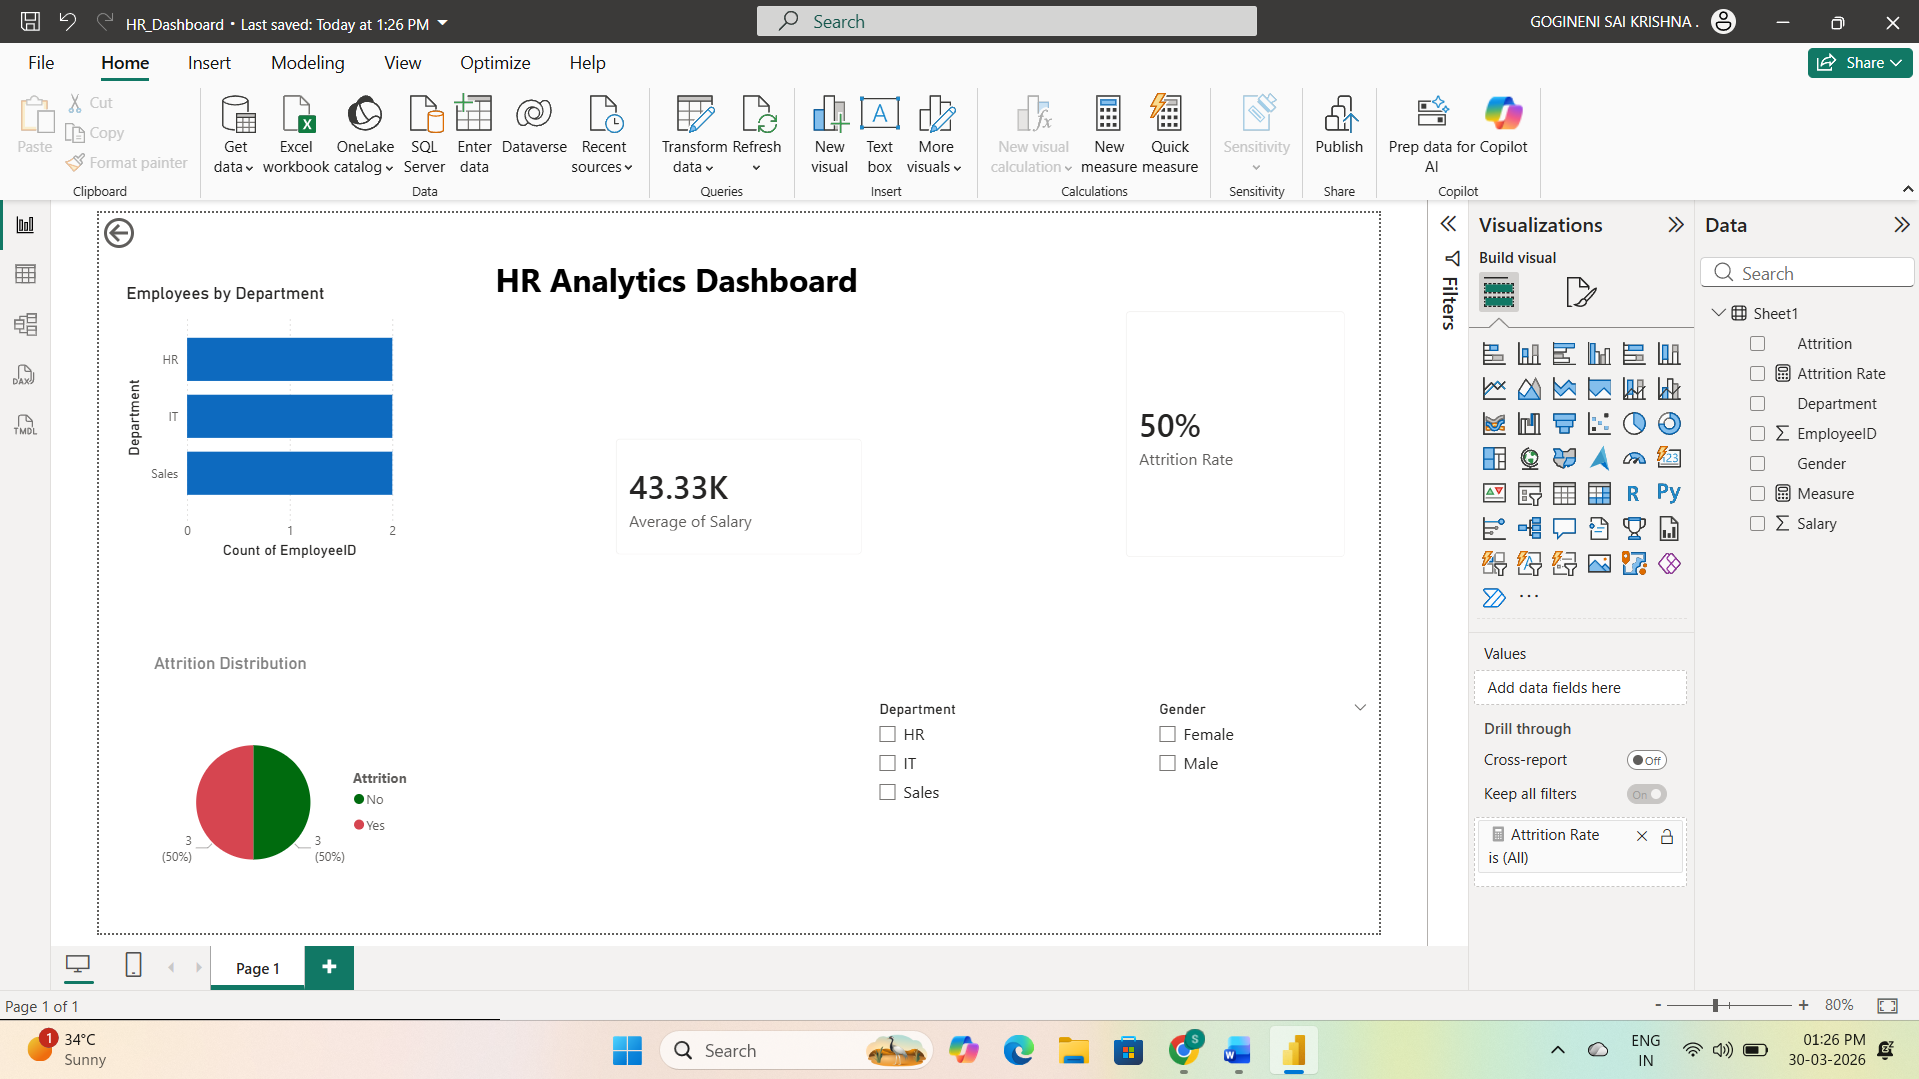

The dashboard page shown, as its layout file describes it:
{"tool":"powerbi","page":{"name":"Page 1","canvas":[1280,720],"ordinal":0},"visuals":[{"type":"barChart","title":"Employees by Department","fields":{"Category":["Sheet1.Department"],"Y":["CountNonNull(Sheet1.EmployeeID)"]},"box":[22.9,70,280,280],"z":0},{"type":"pieChart","title":"Attrition Distribution","fields":{"Category":["Sheet1.Attrition"],"Y":["CountNonNull(Sheet1.EmployeeID)"]},"box":[50,440,280,280],"z":1000},{"type":"cardVisual","fields":{"Data":["Avg(Sheet1.Salary)"]},"box":[500,208.6,280,150],"z":2000},{"type":"actionButton","box":[0,0,100,40],"z":3000},{"type":"textbox","box":[1129,134,151,150],"z":4000},{"type":"textbox","box":[330,40,494.3,81.4],"z":5000},{"type":"cardVisual","fields":{"Data":["Sheet1.Attrition Rate"]},"box":[1010,81.2,253.8,280],"z":6000},{"type":"slicer","fields":{"Values":["Sheet1.Department"]},"box":[767.1,482.9,280,237.1],"z":7000},{"type":"slicer","fields":{"Values":["Sheet1.Gender"]},"box":[1047.1,482.9,232.9,237.1],"z":8000}]}

Visuals, with their boxes on the page's 1280x720 design canvas (x1, y1, x2, y2). These are canvas units, not pixel positions in the 1919x1079 screenshot, which may show the page scaled, cropped or inside an application window:
"Employees by Department" barChart: [23, 70, 303, 350]
"Attrition Distribution" pieChart: [50, 440, 330, 720]
cardVisual - Avg(Sheet1.Salary): [500, 209, 780, 359]
actionButton: [0, 0, 100, 40]
textbox: [1129, 134, 1280, 284]
textbox: [330, 40, 824, 121]
cardVisual - Sheet1.Attrition Rate: [1010, 81, 1264, 361]
slicer - Sheet1.Department: [767, 483, 1047, 720]
slicer - Sheet1.Gender: [1047, 483, 1280, 720]
